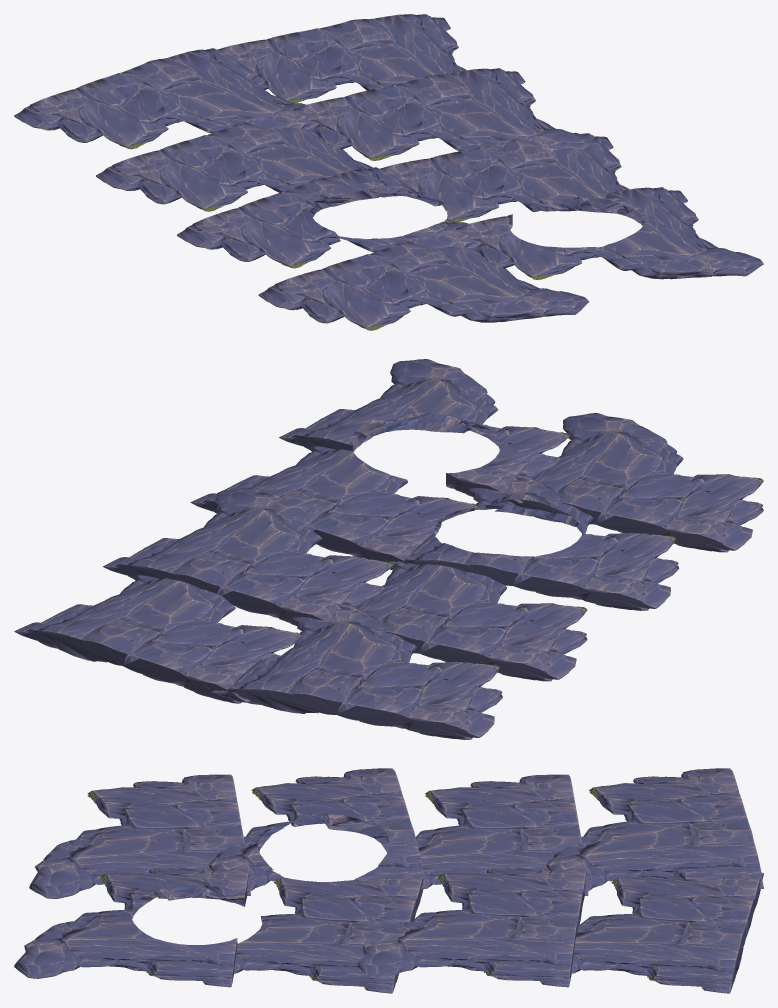
Rendered from crash-cavern-canopy.glb.
The picture shows the model from 3 angles, top to bottom: view 1: azimuth 30°, elevation 25°; view 2: azimuth 150°, elevation 25°; view 3: azimuth 270°, elevation 25°; orthographic projection. The views are drawn at different scales.
Visible parts, largest first — view 1: Crash_canopy_LOD0; view 2: Crash_canopy_LOD0; view 3: Crash_canopy_LOD0.
Boxes of the visible parts, bbox=[...] form: Crash_canopy_LOD0: bbox=[14, 14, 763, 330]; Crash_canopy_LOD0: bbox=[14, 359, 763, 739]; Crash_canopy_LOD0: bbox=[14, 768, 763, 993].
Size of what is drawn, in the model's own units: 220 by 12 by 320.
Materials: 1 (1 with a texture image).
